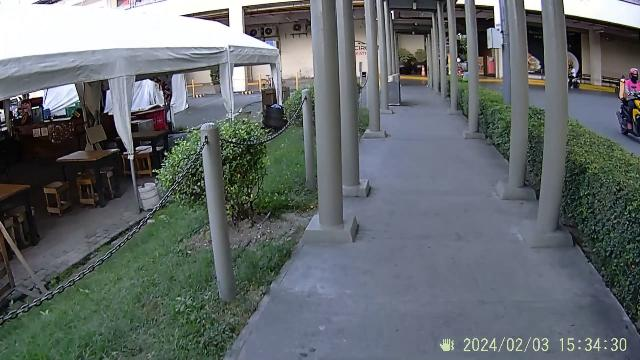bench: (38, 143, 126, 221)
